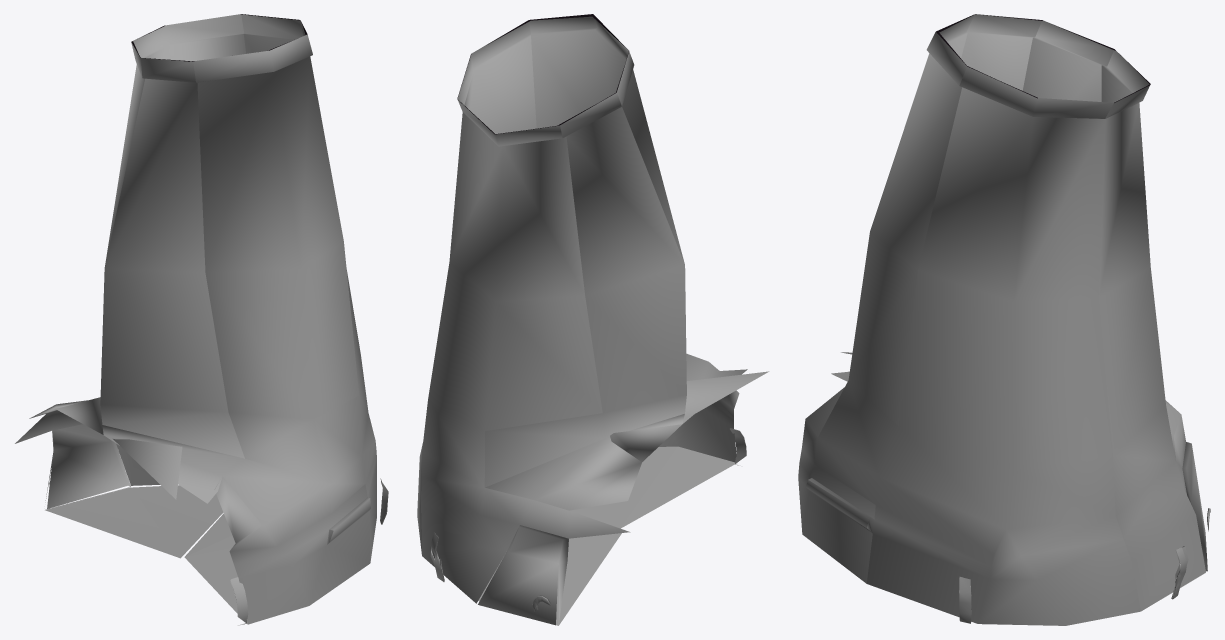
Rendered from right_up_leg.glb.
The picture shows the model from 3 angles, left to right: view 1: azimuth 30°, elevation 25°; view 2: azimuth 150°, elevation 25°; view 3: azimuth 270°, elevation 25°; orthographic projection. The views are drawn at different scales.
Visible parts, largest first — view 1: shorts-grey_RIGHT_UP_LEG; view 2: shorts-grey_RIGHT_UP_LEG; view 3: shorts-grey_RIGHT_UP_LEG.
Part boxes in pixels (left/top/right/bottom): shorts-grey_RIGHT_UP_LEG: left=15, top=14, right=388, bottom=625; shorts-grey_RIGHT_UP_LEG: left=417, top=14, right=769, bottom=625; shorts-grey_RIGHT_UP_LEG: left=798, top=14, right=1210, bottom=625.
Bounding box in the file's own units: 0.27 × 0.484 × 0.3307.
Materials: 1 (1 with a texture image).
